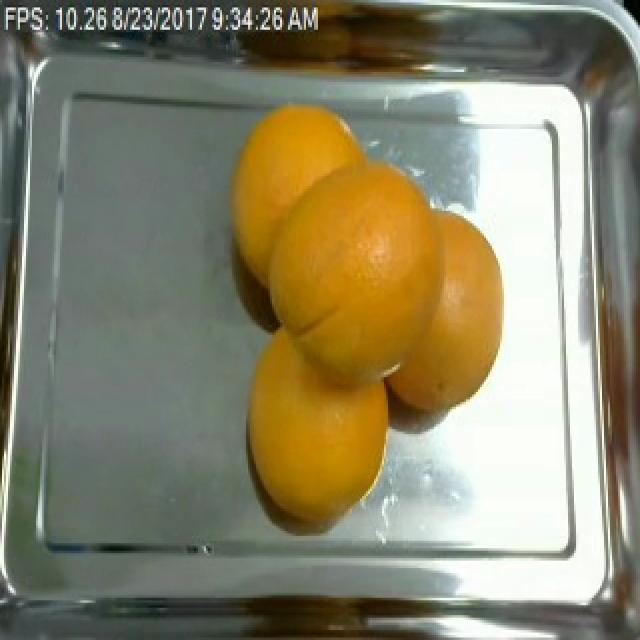Fruit: (218, 84, 388, 276)
